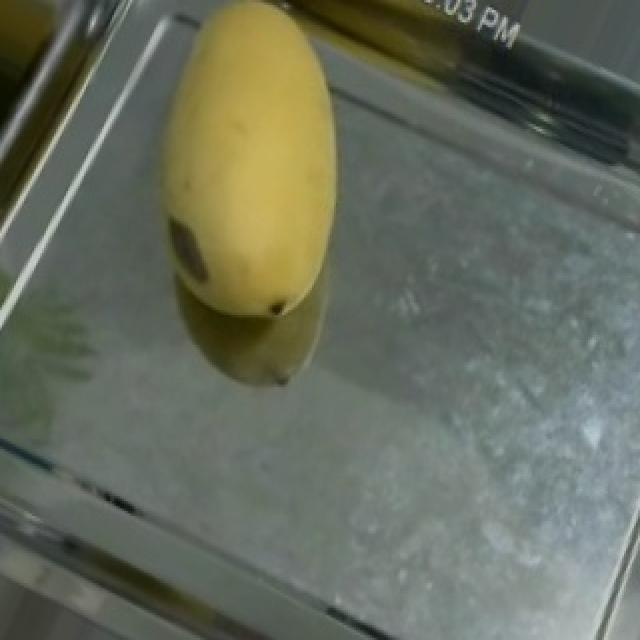fruit: (98, 3, 426, 367)
